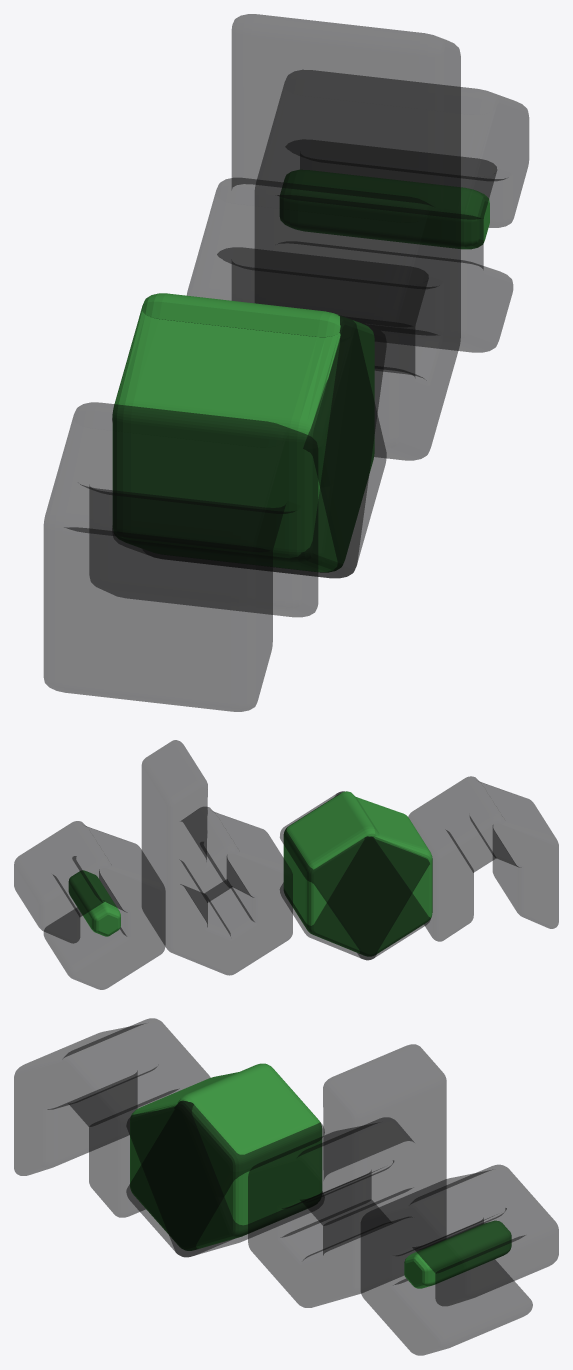
3 views of the same model, one above another, from view 1: azimuth 30°, elevation 25°; view 2: azimuth 150°, elevation 25°; view 3: azimuth 270°, elevation 25° (orthographic). The views are drawn at different scales.
Size of the model in its own units: 86.58 by 42.19 by 86.58.
